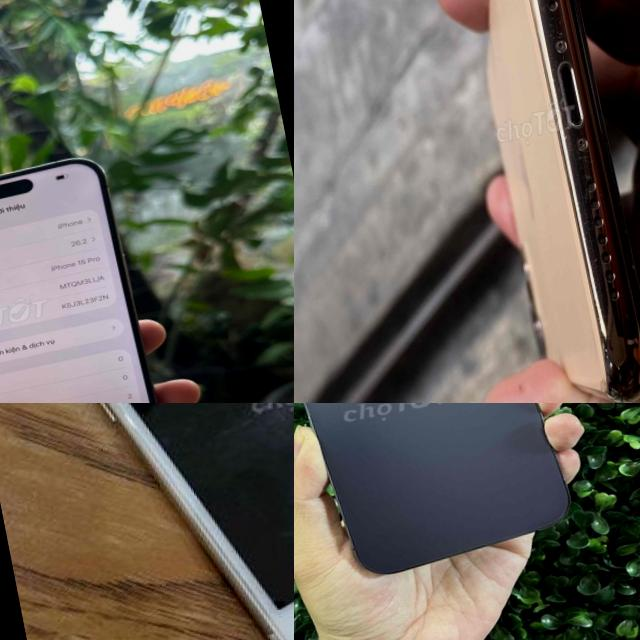gen_11: (427, 0, 640, 403)
gen_14: (294, 403, 590, 597)
gen_15: (0, 149, 196, 403)
gen_7_8: (18, 403, 294, 640)
scratch: (546, 65, 640, 394), (504, 0, 592, 68)
